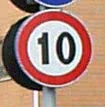limite 10: (12, 11, 93, 87)
